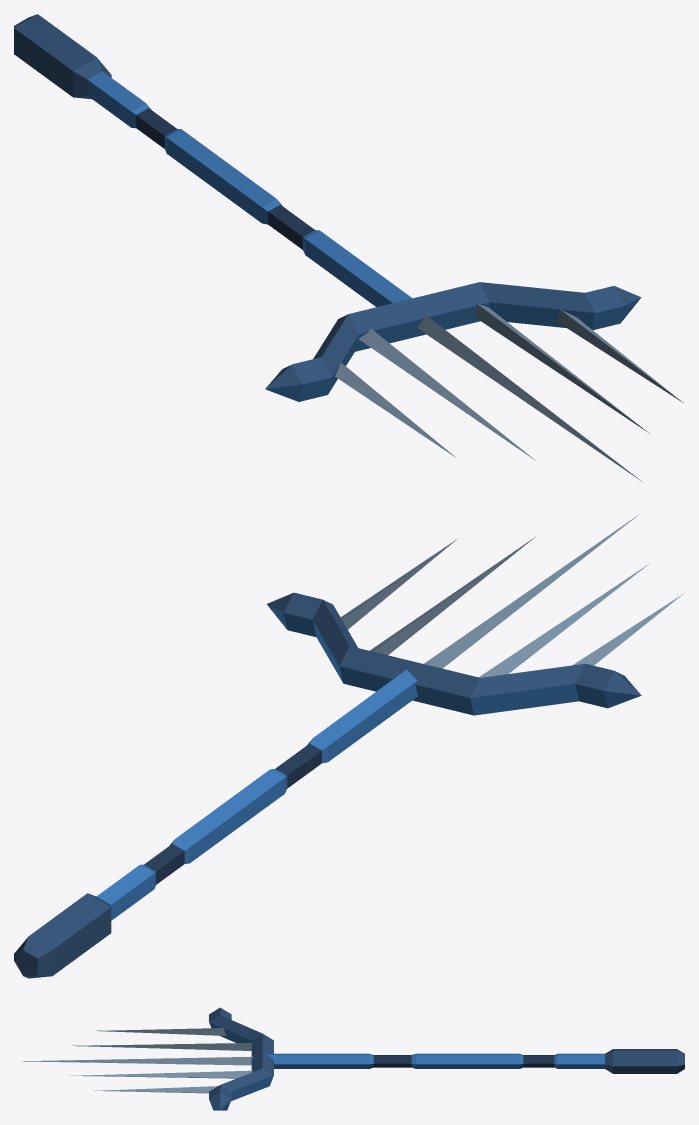
Rendered from pentadente_new.fbx.
The picture shows the model from 3 angles, top to bottom: view 1: azimuth 30°, elevation 25°; view 2: azimuth 150°, elevation 25°; view 3: azimuth 270°, elevation 25°; orthographic projection. The views are drawn at different scales.
Parts seen in each view (by area): view 1: Pentadente1; view 2: Pentadente1; view 3: Pentadente1.
Part boxes in pixels (x1,y1,x2,y2): Pentadente1: (14, 14, 682, 481); Pentadente1: (14, 513, 682, 978); Pentadente1: (22, 1007, 684, 1110).
Bounding box in the file's own units: 3.32 × 0.358 × 9.46.
